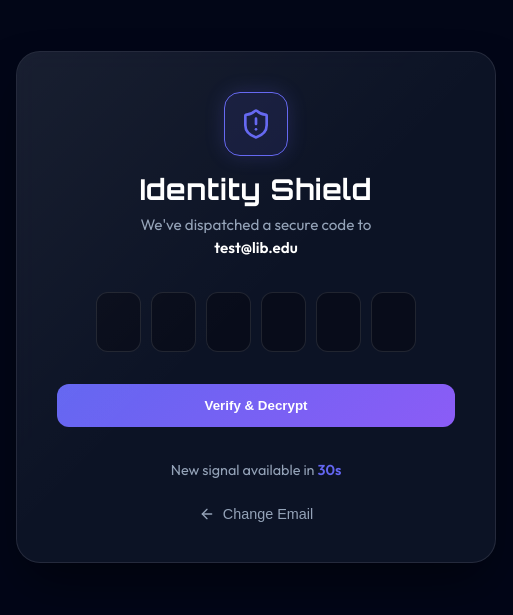
Test case: OTPPage › shows error message when verifyOTP throws
Step 1. Type "0" into the 1st field → (118, 322), box [96,292,141,352]
Step 2. Type "0" into the 2nd field → (174, 322), box [151,292,196,352]
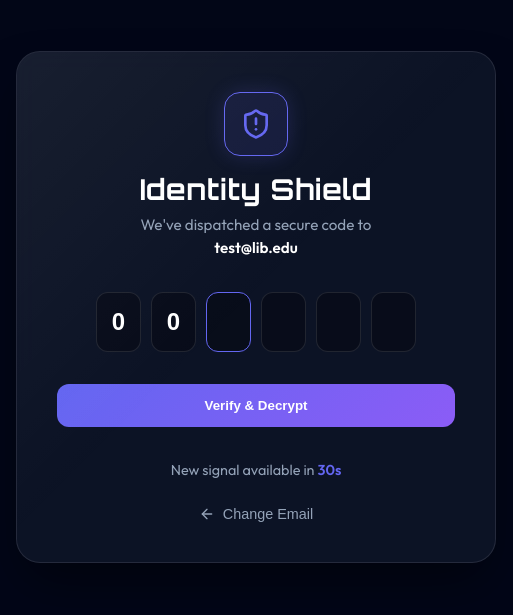
Step 3. Type "0" into the 3rd field → (228, 322), box [206,292,251,352]
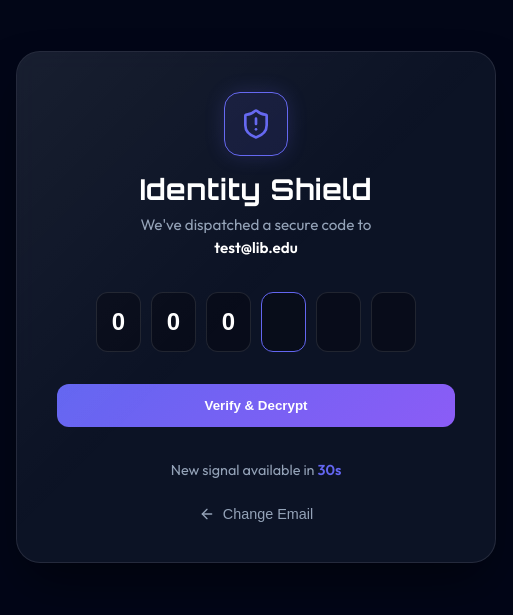
Step 4. Type "0" into the 4th field → (284, 322), box [261,292,306,352]
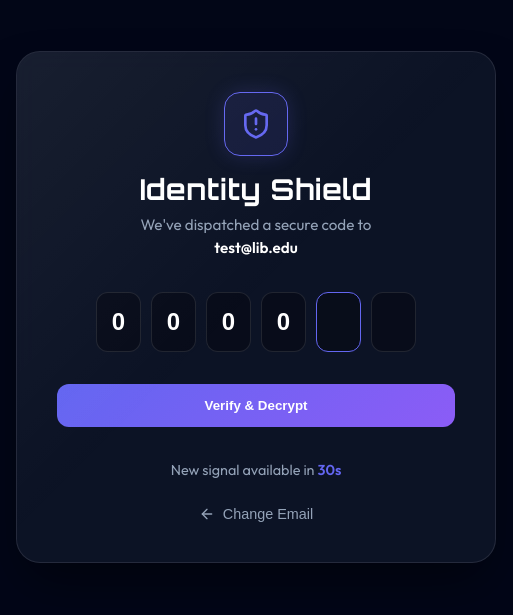
Step 5. Type "0" into the 5th field → (338, 322), box [316,292,361,352]
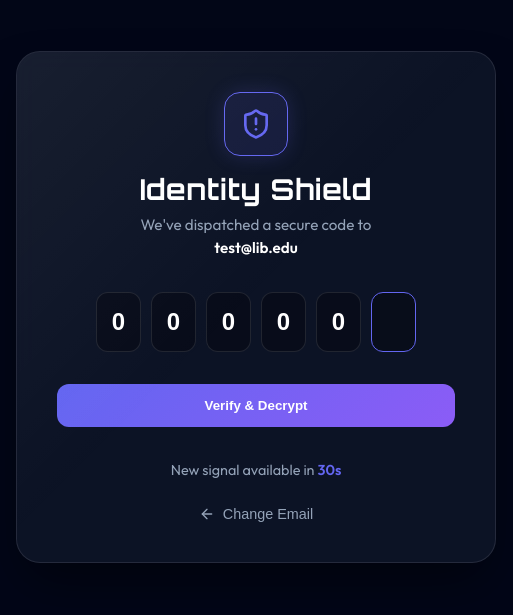
Step 6. Type "0" into the 6th field → (394, 322), box [371,292,416,352]
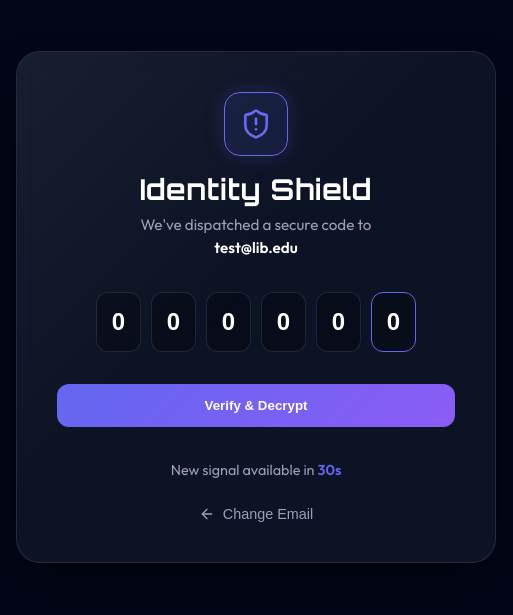
Step 7. Click the button "Verify & Decrypt" → (256, 406), box [57,384,455,427]
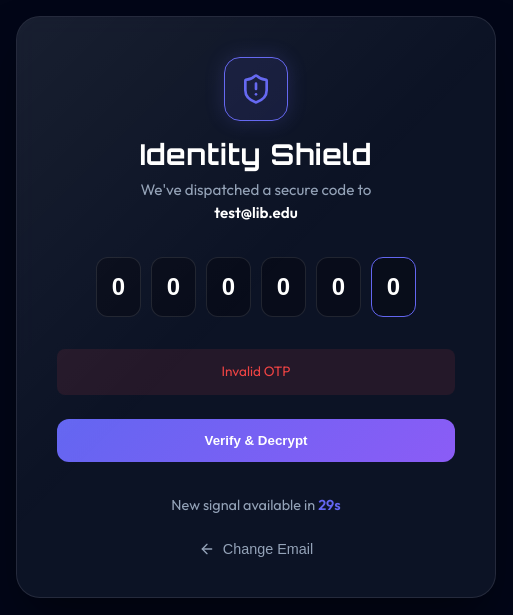
Expected: the text "Invalid OTP" is shown, [57,349,455,395]
